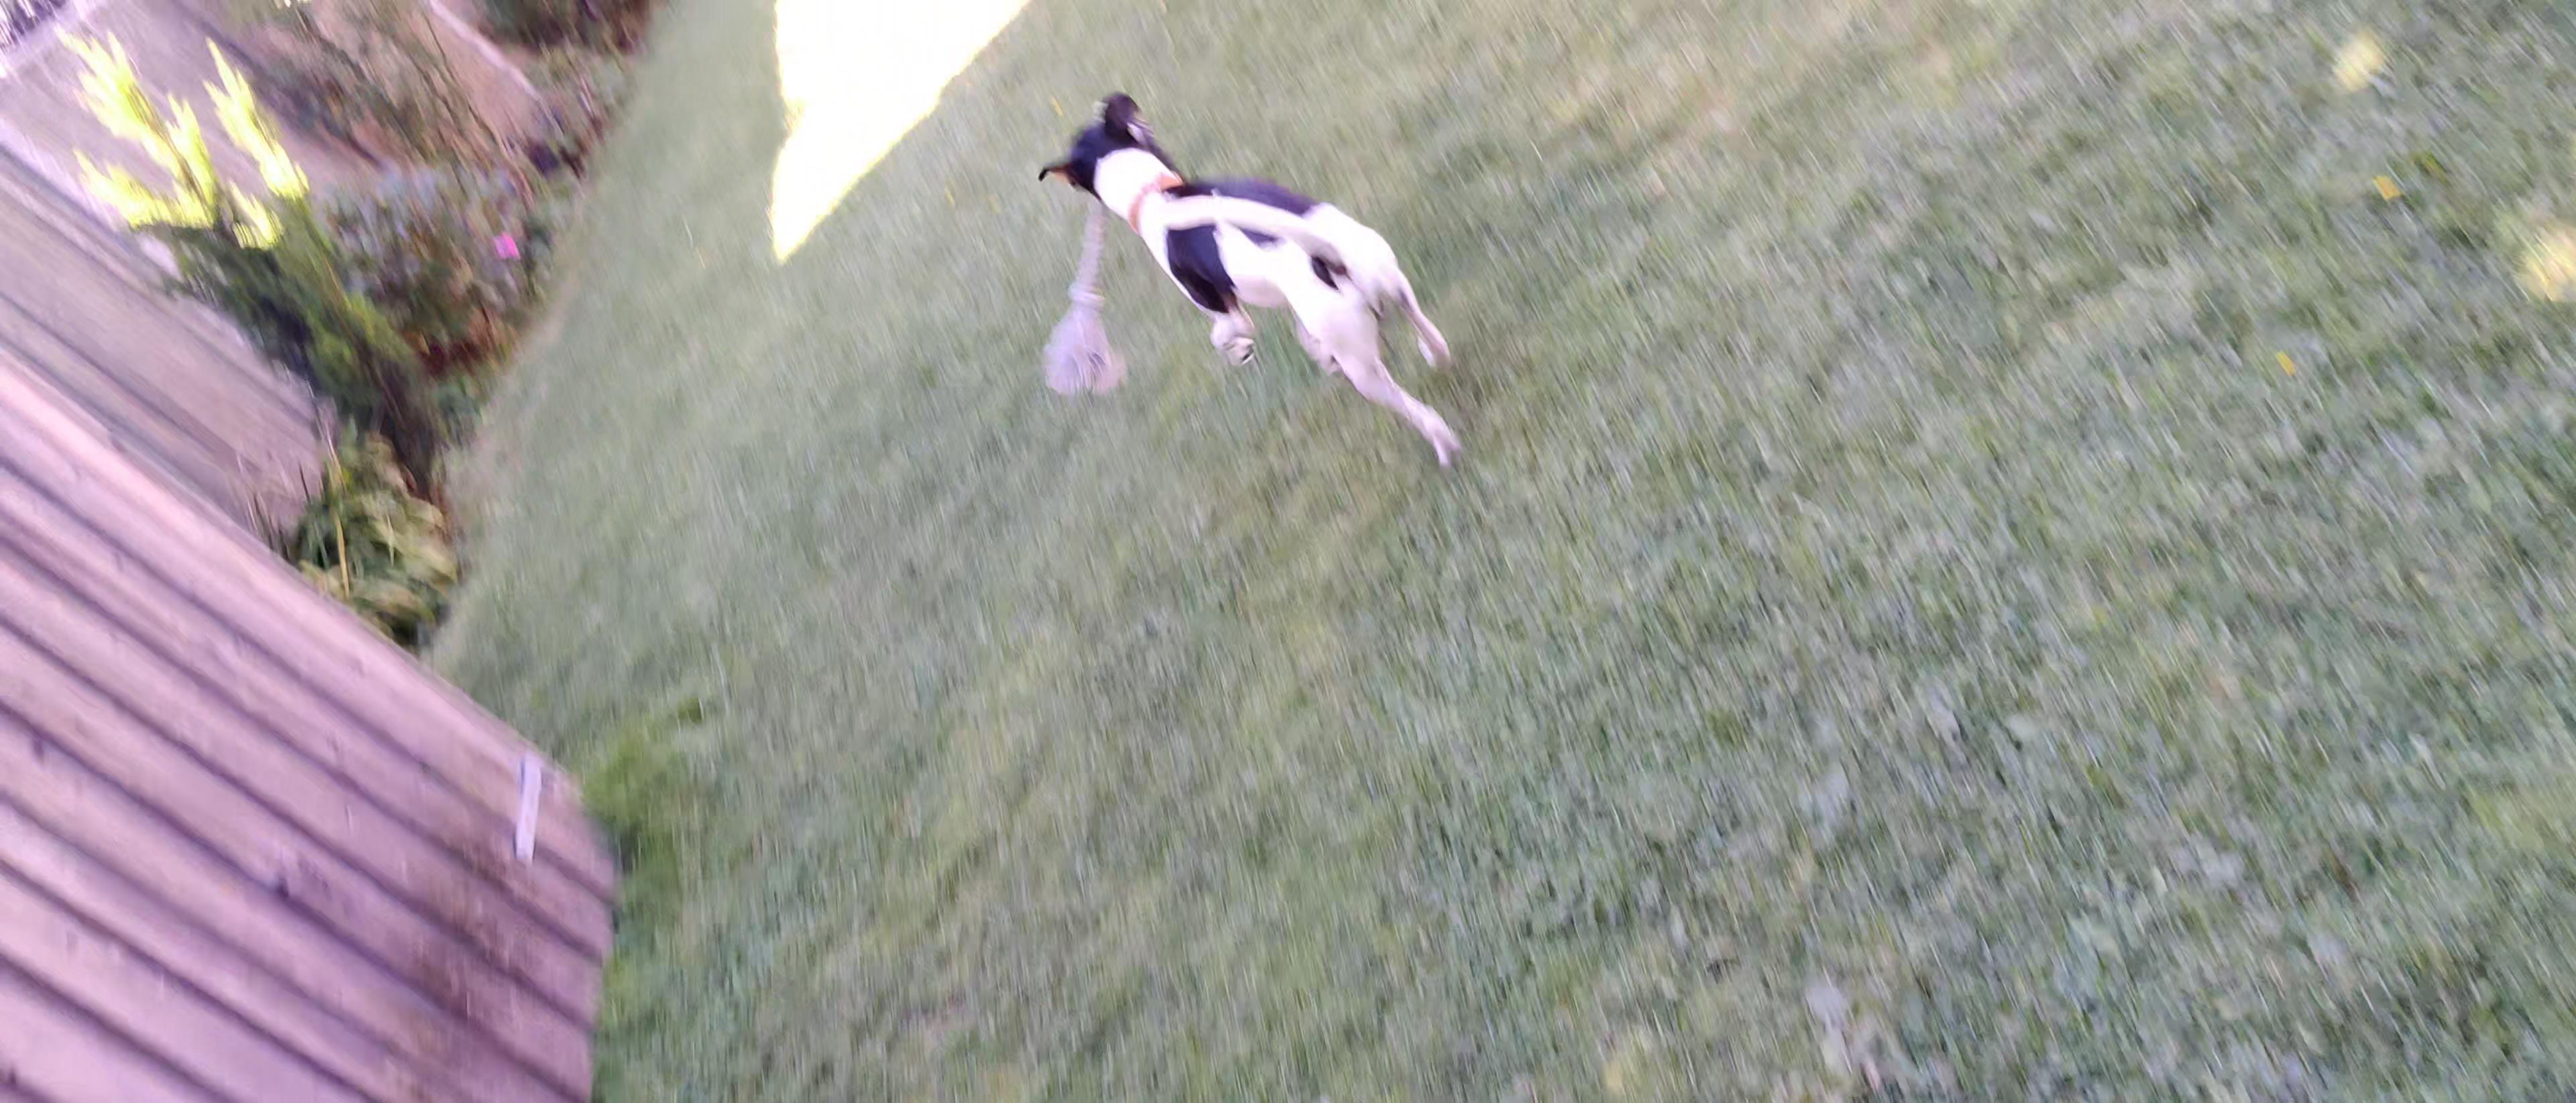Dog: (1028, 69, 1479, 477)
